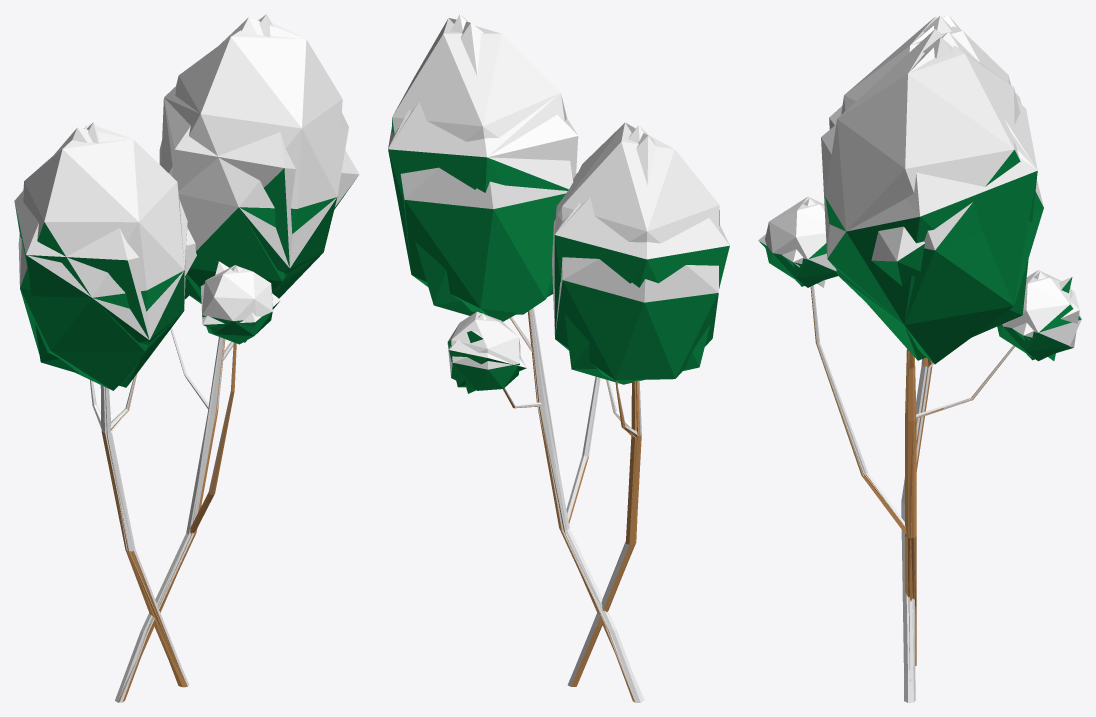
Rendered from Bush_10_Snowy.fbx.
3 renders of one model, left to right at view 1: azimuth 30°, elevation 25°; view 2: azimuth 150°, elevation 25°; view 3: azimuth 270°, elevation 25°, orthographic. The views are drawn at different scales.
Visible parts, largest first — view 1: Bush 10_LOD0_Snowy, Bush 10_LOD2_Snowy, Bush 10_LOD3_Snowy, Bush 10_LOD1_Snowy; view 2: Bush 10_LOD0_Snowy, Bush 10_LOD2_Snowy, Bush 10_LOD3_Snowy, Bush 10_LOD1_Snowy; view 3: Bush 10_LOD0_Snowy, Bush 10_LOD2_Snowy, Bush 10_LOD3_Snowy, Bush 10_LOD1_Snowy.
Boxes of the visible parts, x1=… form: Bush 10_LOD0_Snowy: x1=18, y1=17, x2=342, y2=702; Bush 10_LOD2_Snowy: x1=14, y1=17, x2=348, y2=672; Bush 10_LOD3_Snowy: x1=26, y1=14, x2=359, y2=702; Bush 10_LOD1_Snowy: x1=92, y1=328, x2=236, y2=692; Bush 10_LOD0_Snowy: x1=392, y1=18, x2=719, y2=702; Bush 10_LOD2_Snowy: x1=388, y1=18, x2=729, y2=685; Bush 10_LOD3_Snowy: x1=388, y1=14, x2=729, y2=700; Bush 10_LOD1_Snowy: x1=503, y1=309, x2=640, y2=702; Bush 10_LOD0_Snowy: x1=765, y1=17, x2=1081, y2=702; Bush 10_LOD2_Snowy: x1=758, y1=14, x2=1079, y2=700; Bush 10_LOD3_Snowy: x1=793, y1=16, x2=1072, y2=702; Bush 10_LOD1_Snowy: x1=811, y1=285, x2=1015, y2=701.
Bounding box in the file's own units: 68.81 × 129 × 52.84.
